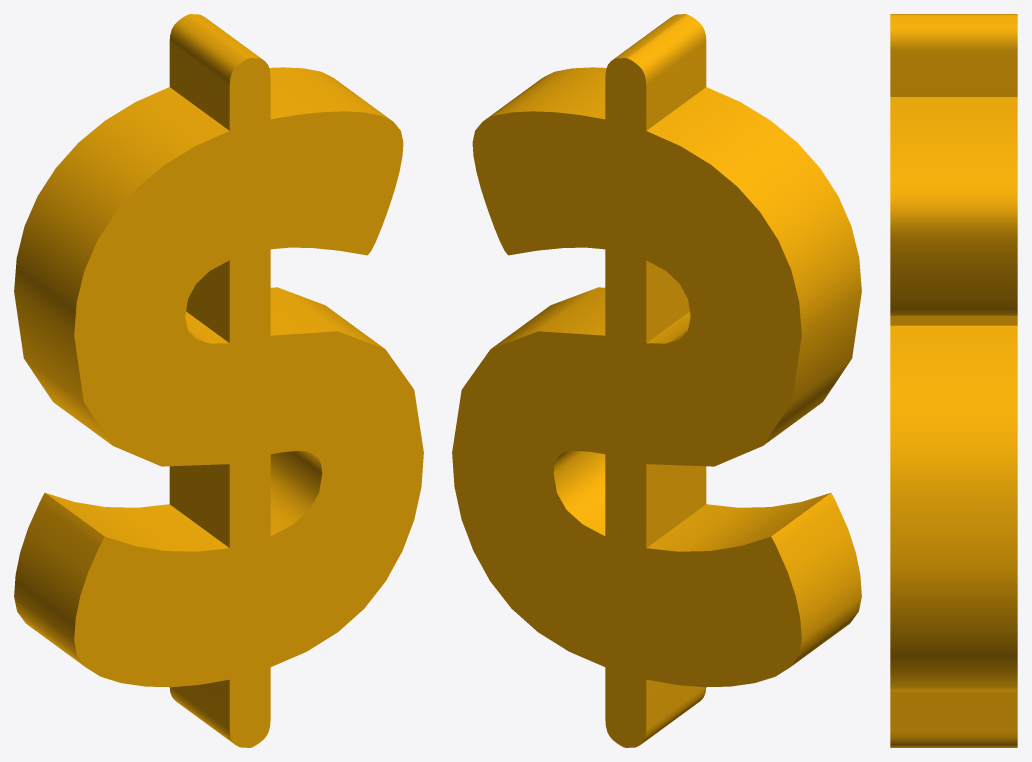
File: Dollar.fbx
The picture shows the model from 3 angles, left to right: view 1: azimuth 30°, elevation 25°; view 2: azimuth 150°, elevation 25°; view 3: azimuth 270°, elevation 25°; orthographic projection. The views are drawn at different scales.
Visible parts, largest first — view 1: Dollar; view 2: Dollar; view 3: Dollar.
Boxes of the visible parts, x1,y1,x2,y2 form: Dollar: (14,14,423,747); Dollar: (452,14,861,747); Dollar: (890,14,1017,747).
Size of the model in its own units: 8.4 by 15.84 by 2.5.
